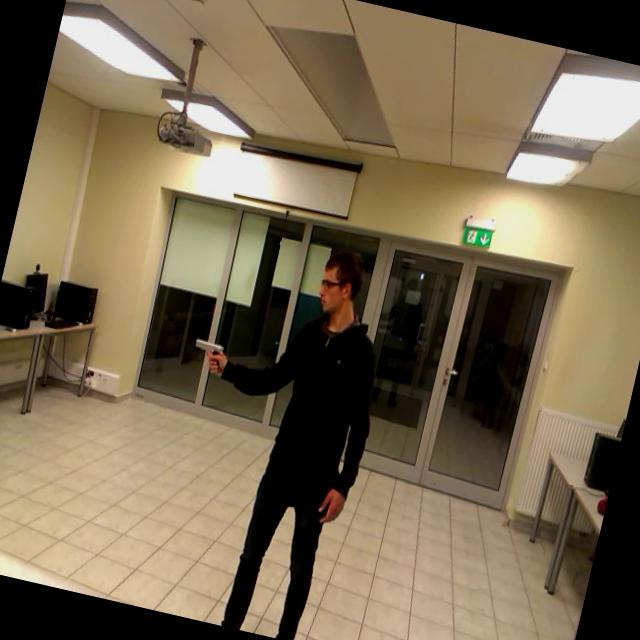handgun: (180, 326, 240, 392)
